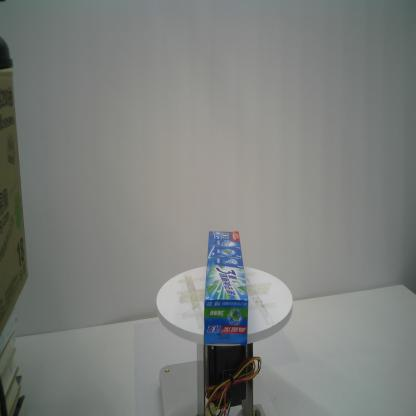Personal Hygiene: (202, 230, 249, 348)
